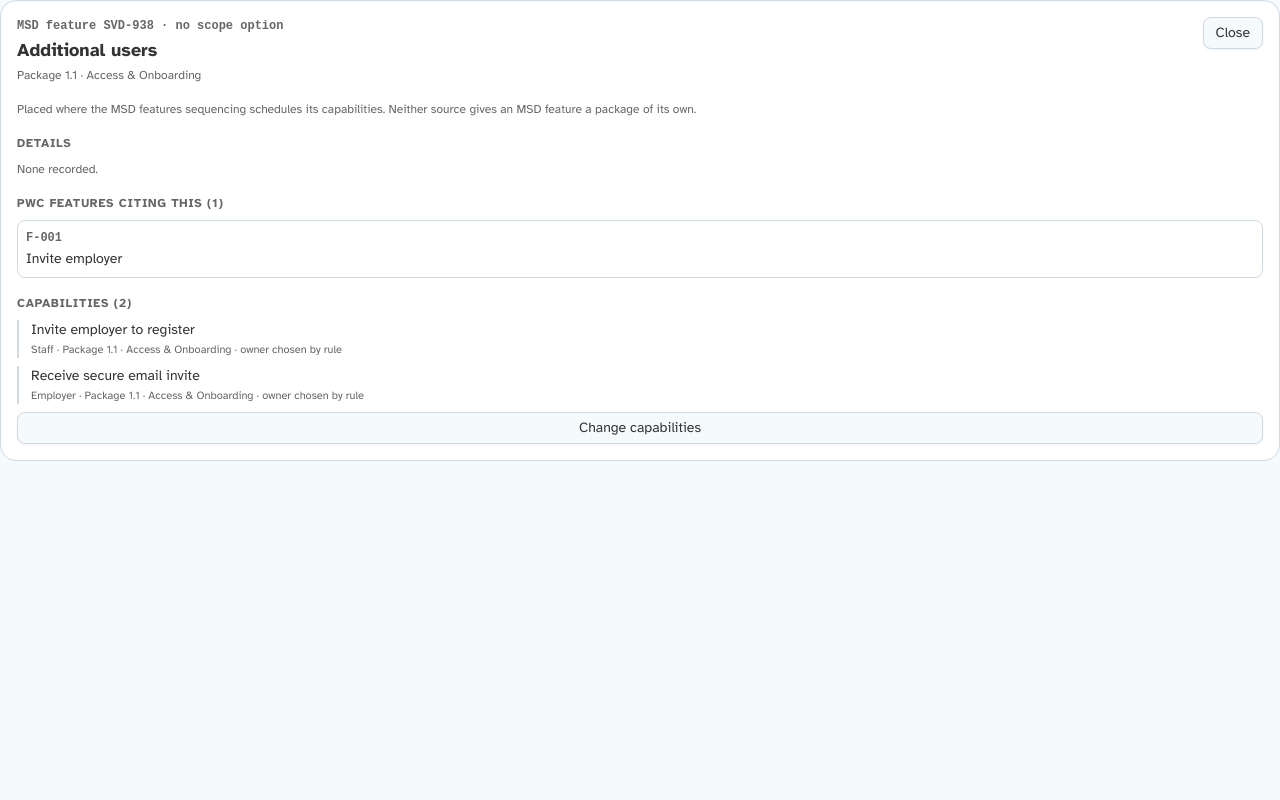
Scenario: MvpDetailPanel — capabilities it owns › says what unticking does, since an unowned capability leaves this view
Step 1. Click the button "Change capabilities" → [640, 428], box left=17, top=412, right=1263, bottom=444
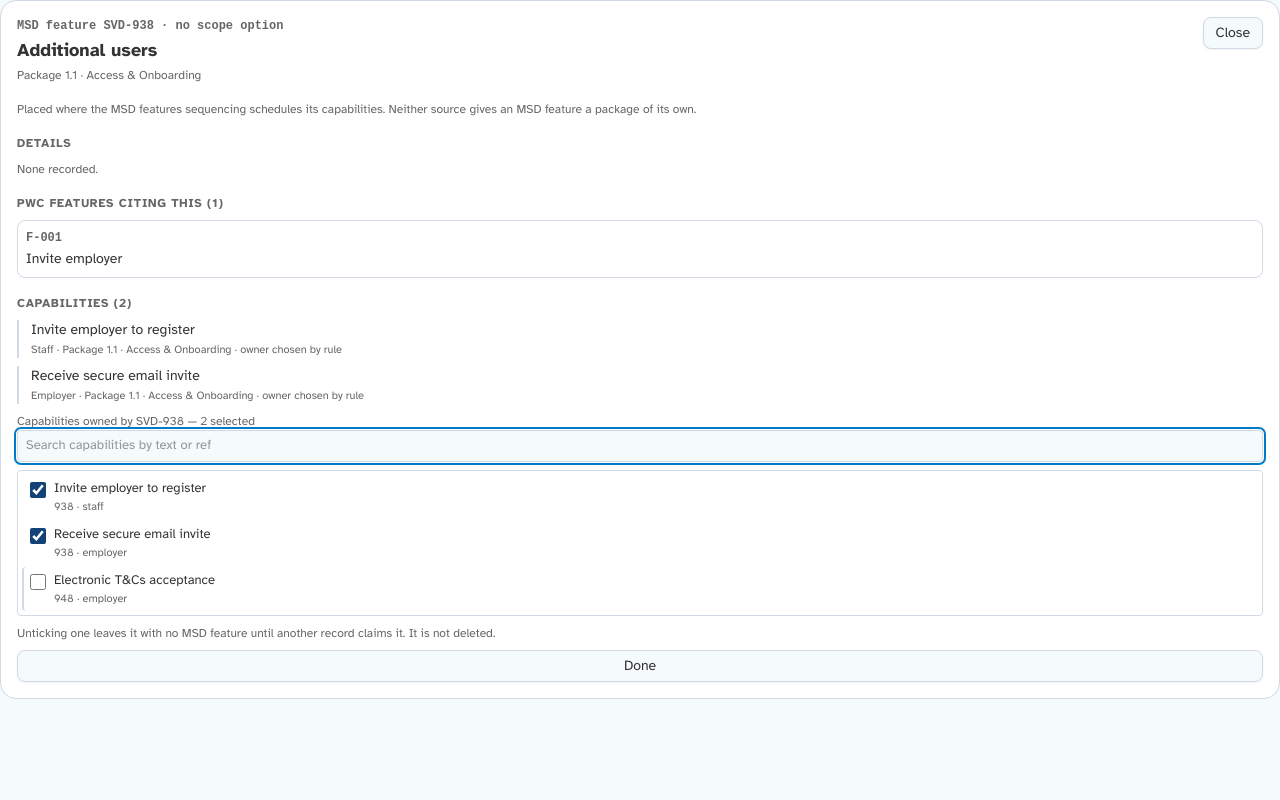
Expected: the text "no MSD feature until another record claims it" is shown, left=17, top=626, right=495, bottom=640
